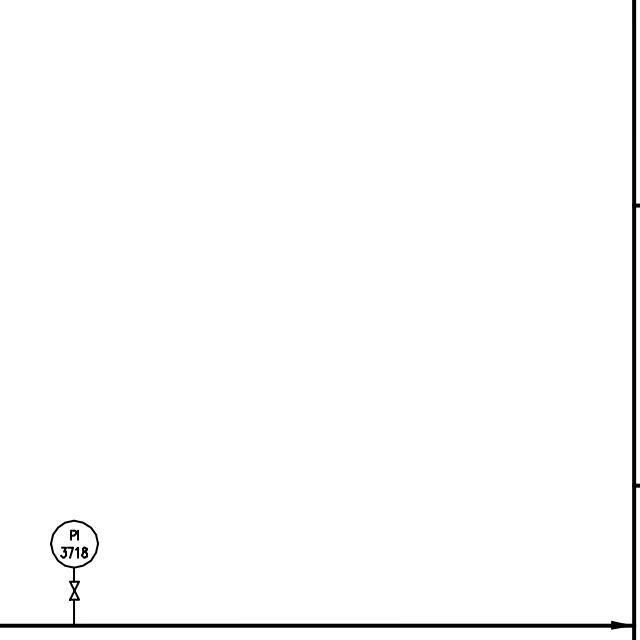GV: (65, 578, 83, 602)
